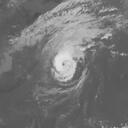cyclone: (51, 46, 83, 83)
